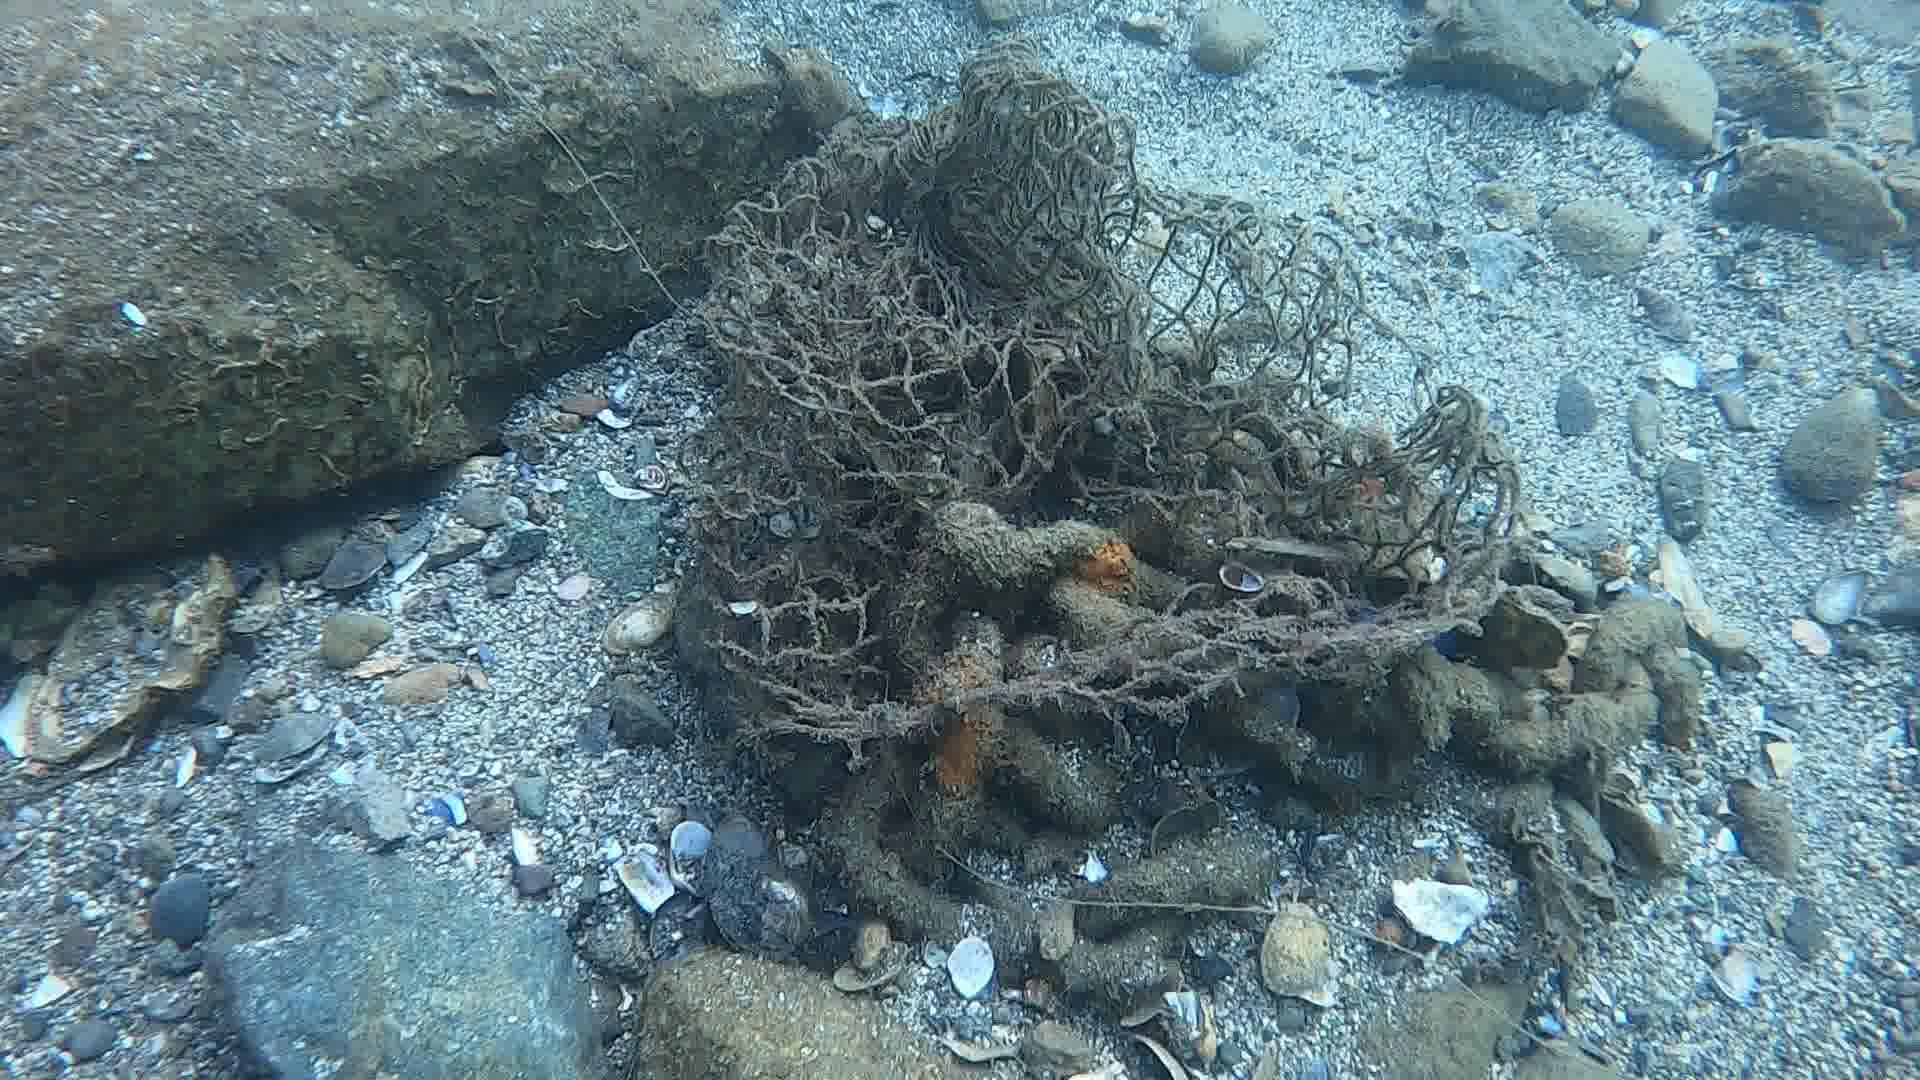fish net: (680, 54, 1524, 735)
